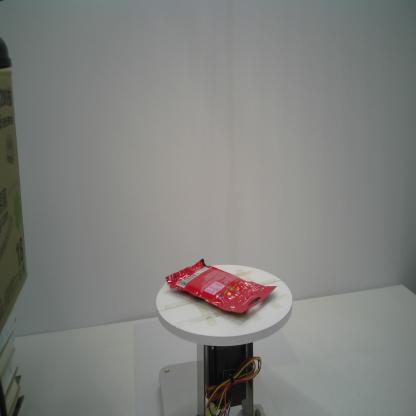Candy: (164, 258, 279, 315)
